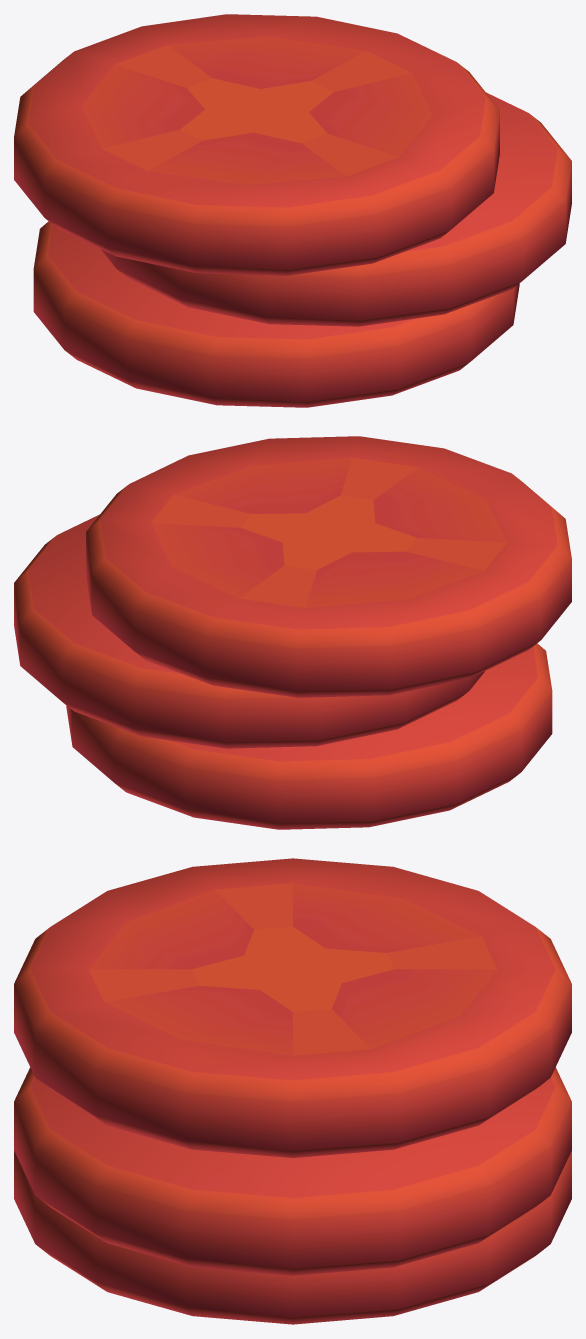
File: food-ingredient-tomato-slices.glb
3 views of the same model, one above another, from view 1: azimuth 30°, elevation 25°; view 2: azimuth 150°, elevation 25°; view 3: azimuth 270°, elevation 25° (orthographic). The views are drawn at different scales.
Parts seen in each view (by area): view 1: food_ingredient_tomato_slices; view 2: food_ingredient_tomato_slices; view 3: food_ingredient_tomato_slices.
Boxes of the visible parts, x1,y1,x2,y2 form: food_ingredient_tomato_slices: (14,14,571,407); food_ingredient_tomato_slices: (14,436,571,829); food_ingredient_tomato_slices: (14,858,571,1324).
Size of the model in its own units: 0.76 by 0.3 by 0.65.
Materials: 1 (1 with a texture image).
